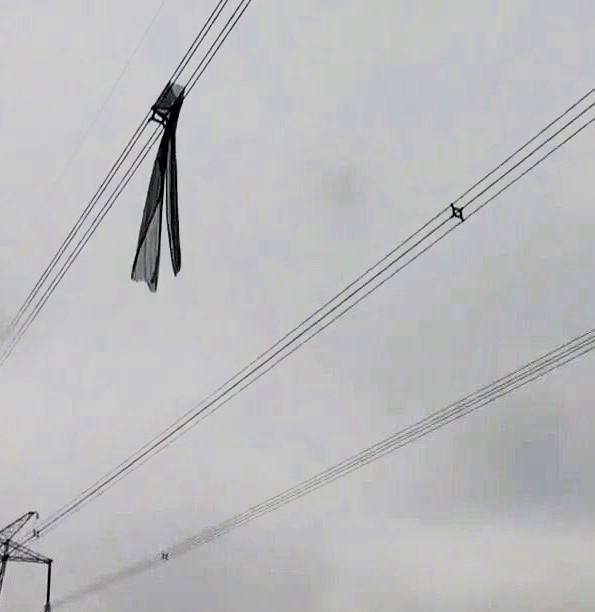wire foreign body: (125, 65, 214, 305)
